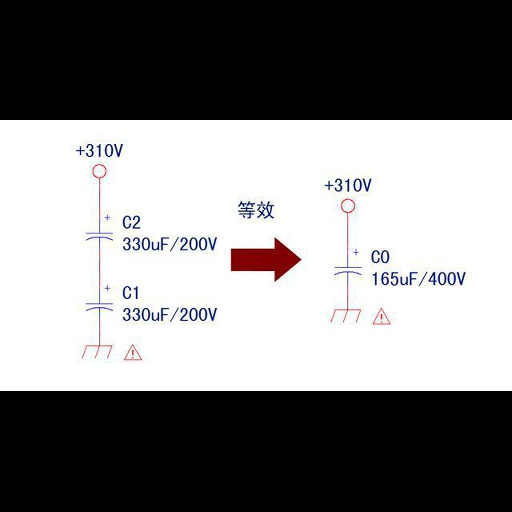firstpolarcapacitor: (330, 247, 366, 281), (82, 284, 116, 315), (86, 212, 115, 246)
